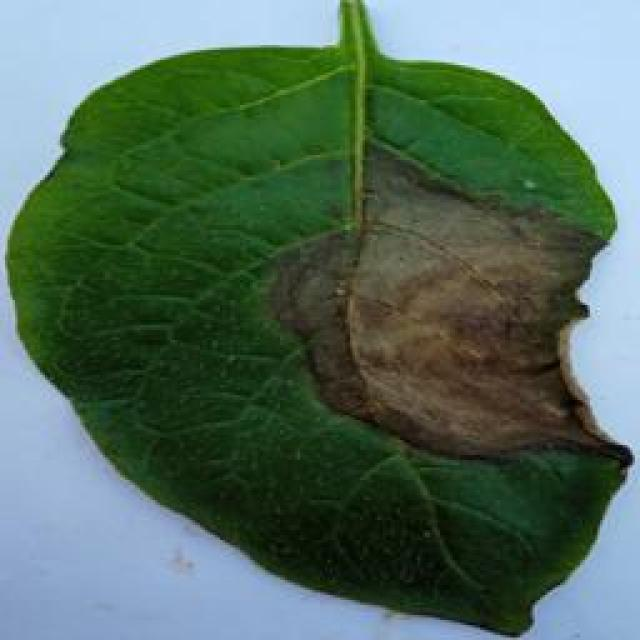Potato_Late_Blight: (7, 4, 620, 634)
